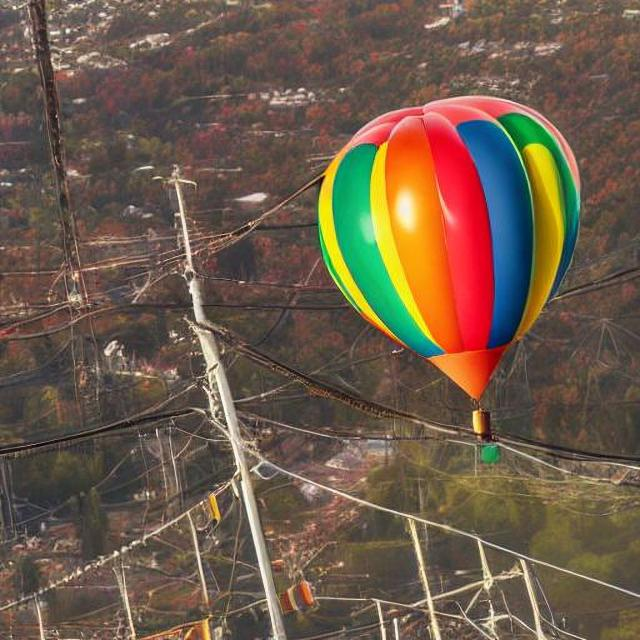balloon: (305, 85, 580, 412)
